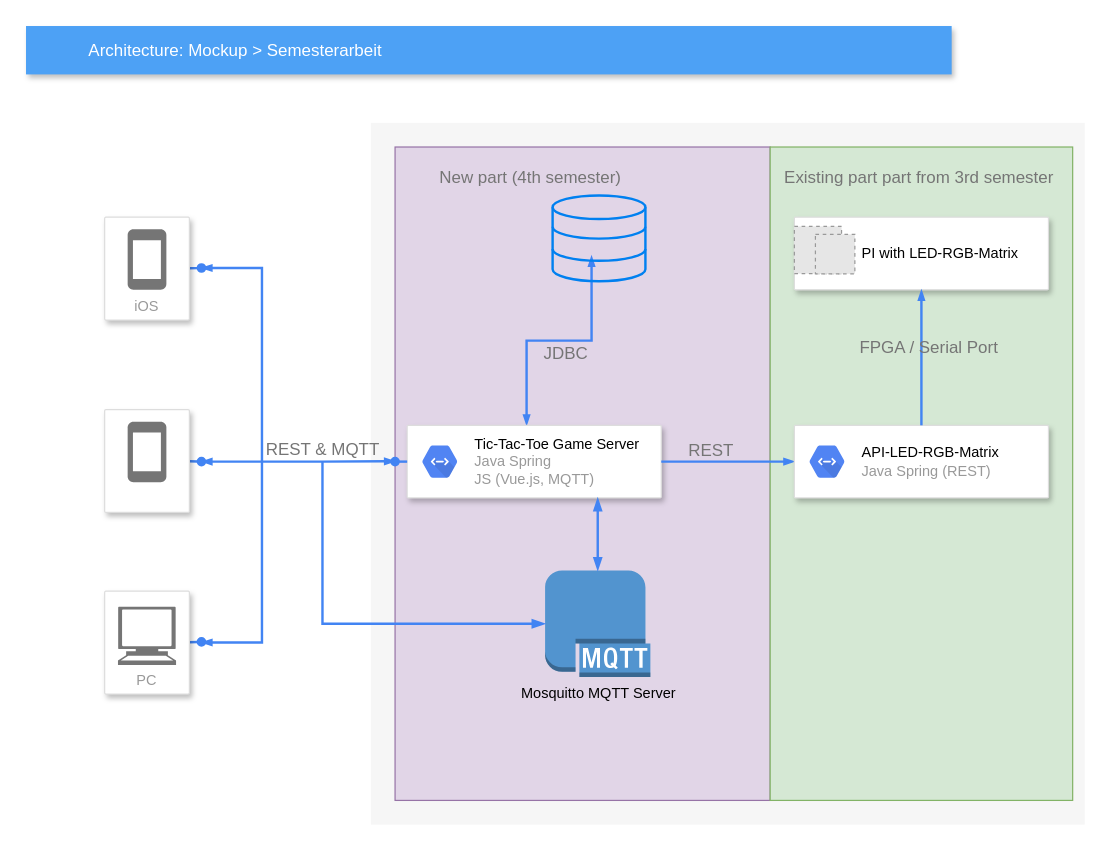
The diagram is 1105 pixels wide and 845 high, and some of its shapes have lost their labels. Grey dashed boxes stand in for pictures. The centre of each missing label's shape, as x and y in pixels:
"Android" goes at (x=148, y=462).
"Database" goes at (x=598, y=238).
